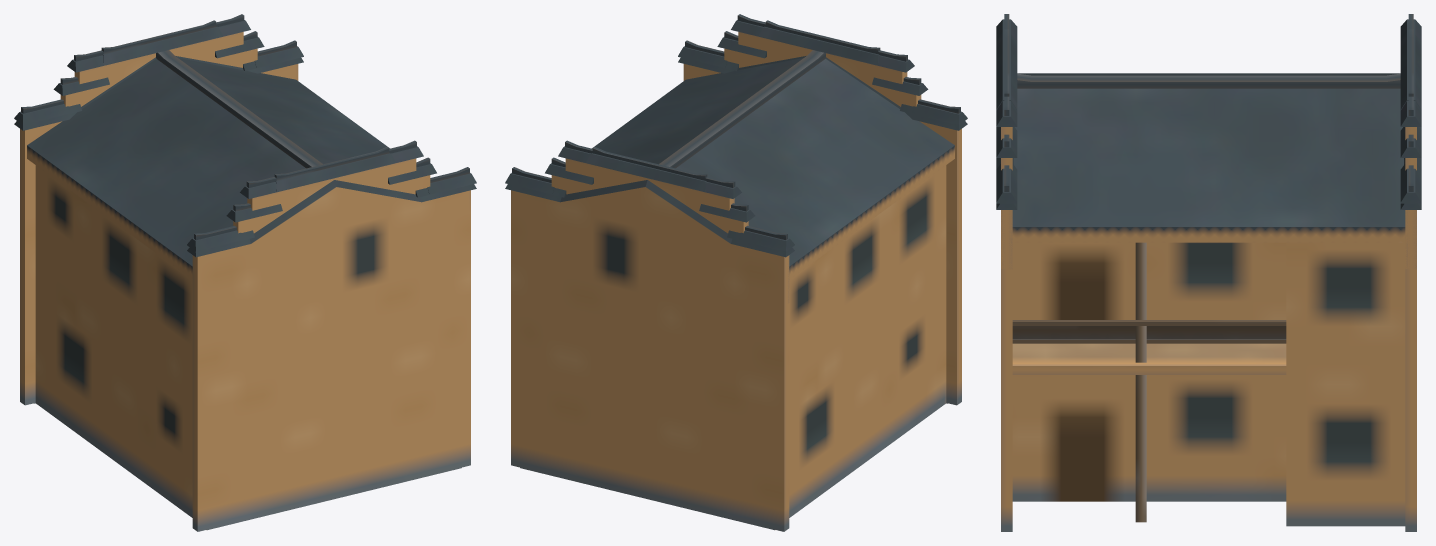
File: Hui_Building_Residential_L2_04_Mod.fbx
3 views of the same model, side by side, from view 1: azimuth 30°, elevation 25°; view 2: azimuth 150°, elevation 25°; view 3: azimuth 270°, elevation 25° (orthographic). The views are drawn at different scales.
Parts seen in each view (by area): view 1: Hui_Building_Residential_WallL_L2_01_Mod, Hui_Building_Residential_L2_04_Mod, Hui_Building_Residential_WallL_L2_02_Mod, Hui_Building_Residential_WallR_L2_01_Mod, Hui_Building_Residential_WallL_L2_03_Mod, Hui_Building_Residential_WallR_L2_03_Mod, Hui_Building_Residential_WallR_L2_02_Mod; view 2: Hui_Building_Residential_L2_04_Mod, Hui_Building_Residential_WallR_L2_01_Mod, Hui_Building_Residential_WallR_L2_02_Mod, Hui_Building_Residential_WallL_L2_01_Mod, Hui_Building_Residential_WallR_L2_03_Mod, Hui_Building_Residential_WallL_L2_03_Mod, Hui_Building_Residential_WallL_L2_02_Mod; view 3: Hui_Building_Residential_L2_04_Mod, Hui_Building_Residential_WallL_L2_01_Mod, Hui_Building_Residential_WallR_L2_01_Mod, Hui_Building_Residential_WallL_L2_03_Mod, Hui_Building_Residential_WallR_L2_03_Mod.
Boxes of the visible parts, x1,y1,x2,y2 form: Hui_Building_Residential_WallL_L2_01_Mod: (187, 147, 476, 531); Hui_Building_Residential_L2_04_Mod: (27, 50, 389, 517); Hui_Building_Residential_WallL_L2_02_Mod: (187, 180, 476, 529); Hui_Building_Residential_WallR_L2_01_Mod: (14, 20, 303, 405); Hui_Building_Residential_WallL_L2_03_Mod: (187, 140, 476, 530); Hui_Building_Residential_WallR_L2_03_Mod: (14, 14, 303, 403); Hui_Building_Residential_WallR_L2_02_Mod: (14, 56, 303, 130); Hui_Building_Residential_L2_04_Mod: (592, 50, 954, 517); Hui_Building_Residential_WallR_L2_01_Mod: (505, 147, 794, 531); Hui_Building_Residential_WallR_L2_02_Mod: (505, 180, 794, 529); Hui_Building_Residential_WallL_L2_01_Mod: (678, 20, 967, 405); Hui_Building_Residential_WallR_L2_03_Mod: (505, 140, 794, 530); Hui_Building_Residential_WallL_L2_03_Mod: (678, 14, 967, 403); Hui_Building_Residential_WallL_L2_02_Mod: (678, 56, 967, 130); Hui_Building_Residential_L2_04_Mod: (1012, 73, 1405, 526); Hui_Building_Residential_WallL_L2_01_Mod: (996, 29, 1017, 531); Hui_Building_Residential_WallR_L2_01_Mod: (1400, 29, 1421, 531); Hui_Building_Residential_WallL_L2_03_Mod: (996, 14, 1017, 269); Hui_Building_Residential_WallR_L2_03_Mod: (1400, 14, 1421, 269).
Size of the model in its own units: 730 by 835 by 819.
